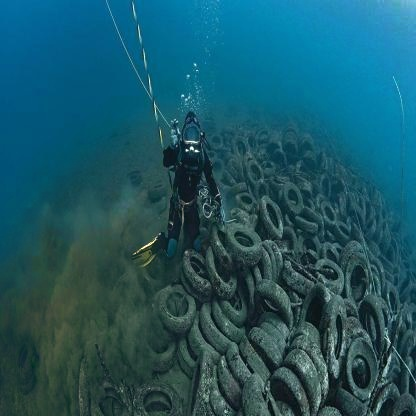tire: (308, 280, 359, 392), (180, 320, 222, 410), (252, 275, 300, 337), (352, 286, 400, 348), (134, 362, 188, 416), (305, 247, 351, 304), (151, 276, 197, 332), (248, 184, 288, 246), (340, 244, 370, 314), (222, 223, 267, 268), (353, 340, 381, 408), (189, 243, 213, 289)
